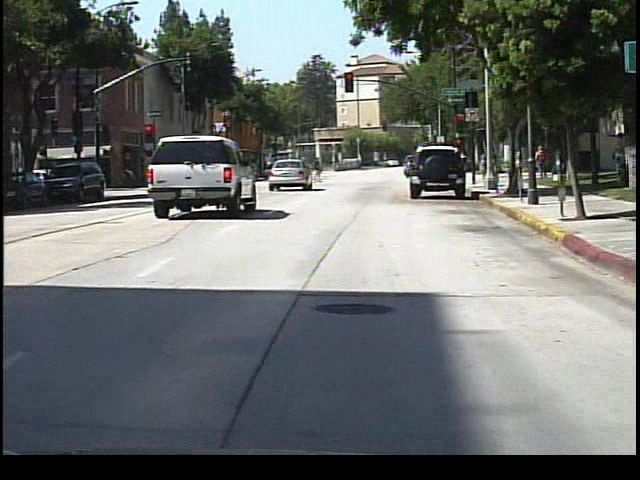person: (535, 144, 553, 184), (461, 153, 478, 183), (315, 156, 326, 186)
